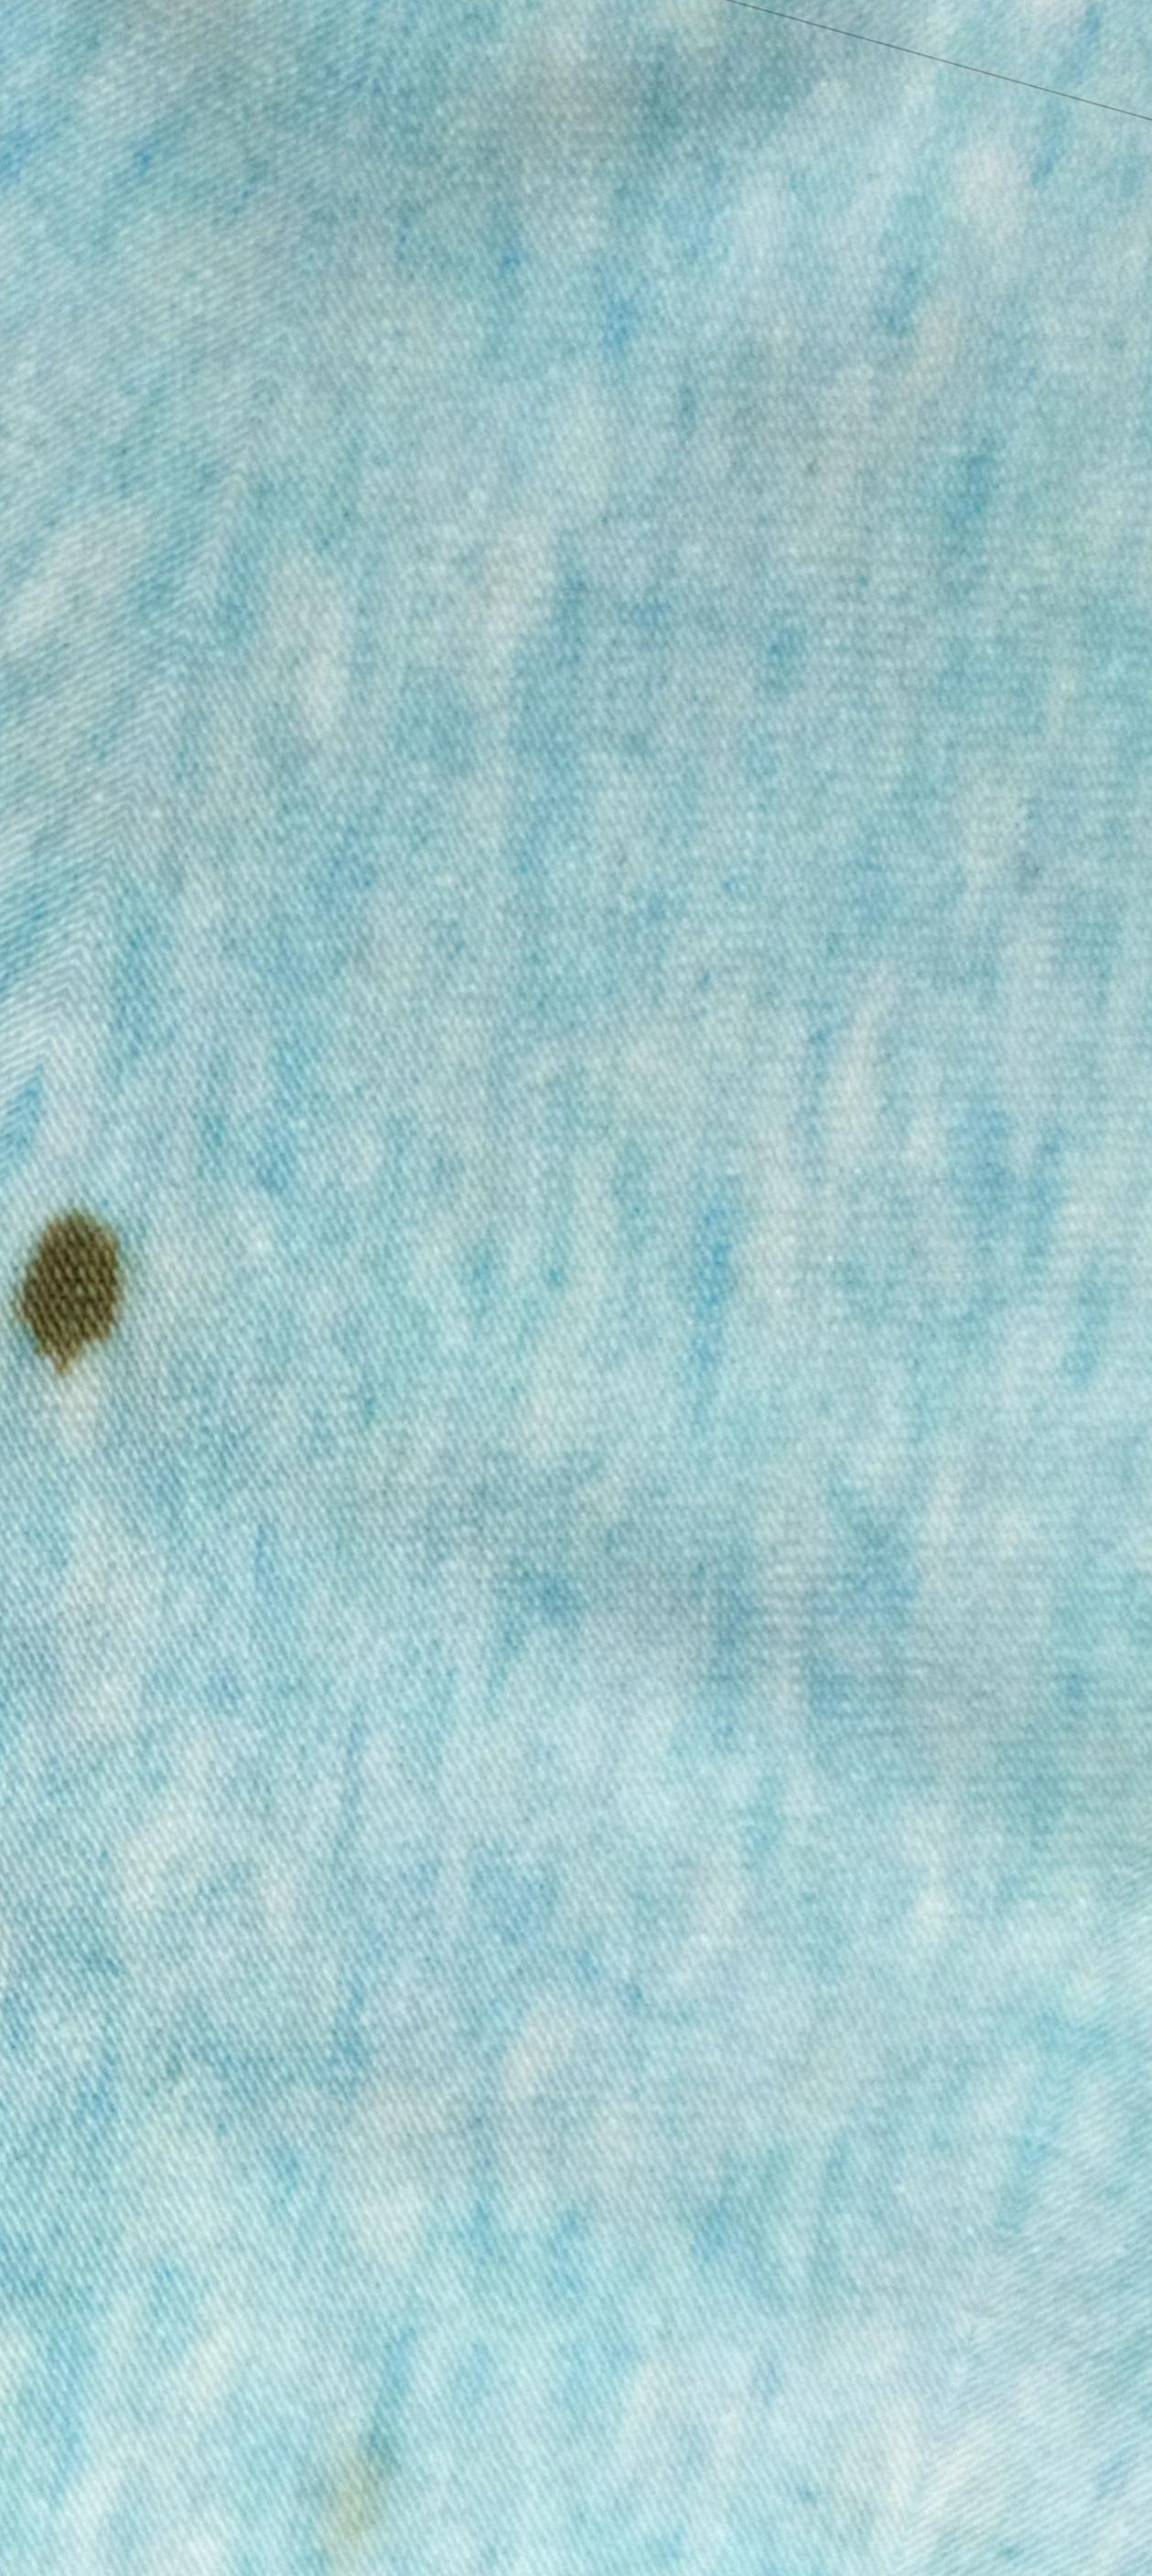stain: (5, 1189, 146, 1377)
